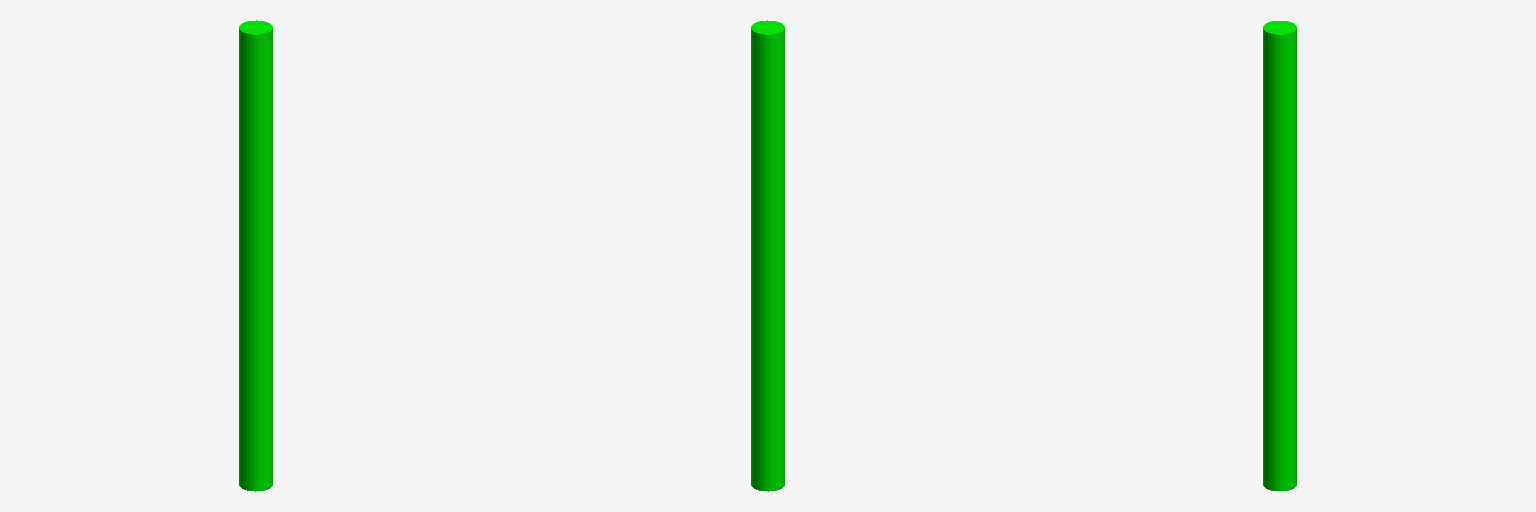
robot.urdf — rope:
<robot name="rope"><link name="link_0"><inertial><mass value="0.05" /><inertia ixx="1e-5" ixy="0" ixz="0" iyy="1e-5" iyz="0" izz="1e-5" /></inertial><visual><origin xyz="0 0 0.150000" rpy="0 0 0" /><geometry><cylinder length="0.300000" radius="0.010000" /></geometry><material name="green"><color rgba="0 1 0 1" /></material></visual><collision><origin xyz="0 0 0.150000" rpy="0 0 0" /><geometry><cylinder length="0.300000" radius="0.010000" /></geometry></collision><origin xyz="0 0 0" rpy="0 0 0" /></link></robot>

--- Render facts (derived) ---
Views: 3 orthographic renders of the robot side by side, from view 1: azimuth 30°, elevation 25°; view 2: azimuth 150°, elevation 25°; view 3: azimuth 270°, elevation 25°.
Model rope with 1 links and 0 joints (none), rooted at link_0, posed all joints at 0.
Links seen in each view (by area): view 1: link_0; view 2: link_0; view 3: link_0.
Boxes of the visible links, x1=… form: link_0: x1=239, y1=20, x2=272, y2=491; link_0: x1=751, y1=20, x2=784, y2=491; link_0: x1=1263, y1=21, x2=1296, y2=490.
Bounding box of the posed robot: 0.02 × 0.02 × 0.3 m (x, y, z).
Geometry: primitives only (box / cylinder / sphere), no mesh files.